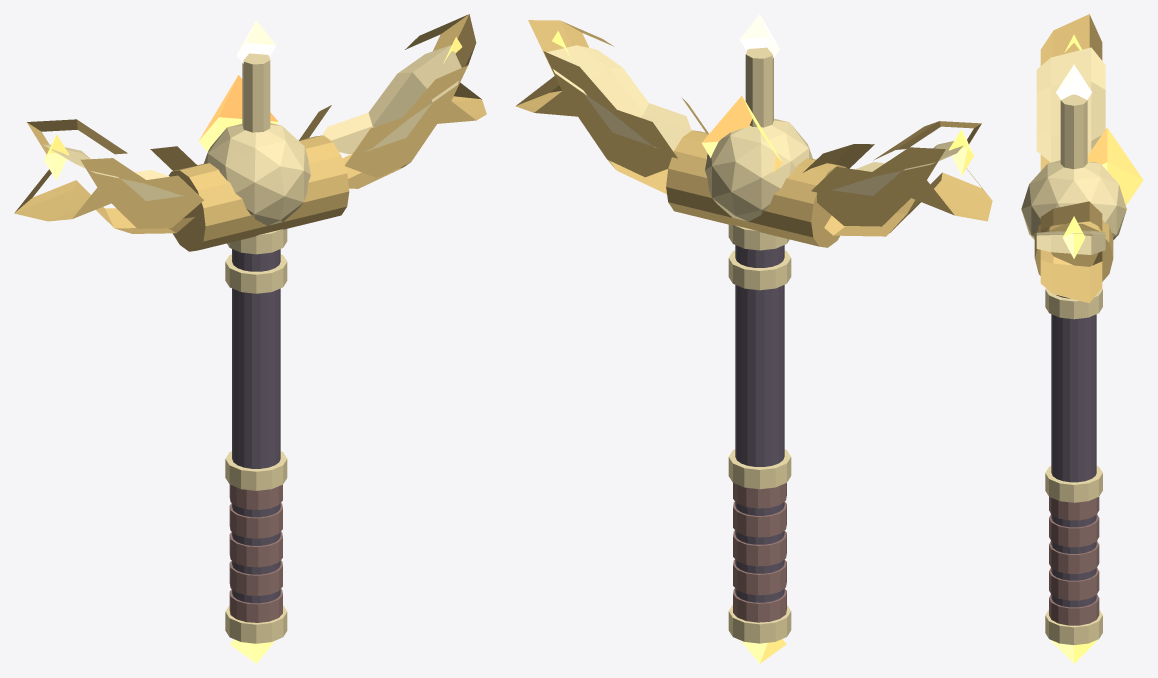
Rendered from pick_legendary_concept_v1.glb.
3 renders of one model, left to right at view 1: azimuth 30°, elevation 25°; view 2: azimuth 150°, elevation 25°; view 3: azimuth 270°, elevation 25°, orthographic. The views are drawn at different scales.
Parts seen in each view (by area): view 1: ForgedHandle_1, RoyalSunblade_left_17, CrossHeadBridge_13, RoyalSunblade_right_16, GemHousing_14, GoldenInnerEdge_right_18, CrownFinial_23, MetalCollar_9, MetalCollar_8, AmberHeart_20, MetalCollar_7, GripWrap_-1.62_3 (+7 smaller); view 2: ForgedHandle_1, RoyalSunblade_left_17, RoyalSunblade_right_16, CrossHeadBridge_13, GemHousing_14, GoldenInnerEdge_right_18, CrownFinial_23, MetalCollar_9, MetalCollar_8, MetalCollar_7, AmberHeart_20, GripWrap_-1.38_4 (+7 smaller); view 3: ForgedHandle_1, GoldenInnerEdge_left_19, GemHousing_14, RoyalSunblade_right_16, CrownFinial_23, RoyalSunblade_left_17, AmberHeart_20, CrossHeadBridge_13, MetalCollar_8, MetalCollar_7, GoldenInnerEdge_right_18, MetalCollar_9 (+8 smaller).
Part boxes in pixels (x1,y1,x2,y2): ForgedHandle_1: [232, 249, 280, 603]; RoyalSunblade_left_17: [14, 119, 203, 233]; CrossHeadBridge_13: [168, 135, 349, 251]; RoyalSunblade_right_16: [299, 14, 486, 188]; GemHousing_14: [204, 123, 310, 225]; GoldenInnerEdge_right_18: [322, 45, 461, 154]; CrownFinial_23: [242, 53, 270, 132]; MetalCollar_9: [225, 254, 287, 293]; MetalCollar_8: [225, 451, 287, 490]; AmberHeart_20: [198, 75, 278, 151]; MetalCollar_7: [225, 605, 287, 643]; GripWrap_-1.62_3: [229, 560, 282, 595]; ForgedHandle_1: [735, 245, 784, 602]; RoyalSunblade_left_17: [803, 121, 992, 236]; RoyalSunblade_right_16: [515, 20, 708, 194]; CrossHeadBridge_13: [666, 130, 846, 247]; GemHousing_14: [705, 118, 812, 221]; GoldenInnerEdge_right_18: [547, 45, 691, 151]; CrownFinial_23: [745, 47, 773, 127]; MetalCollar_9: [728, 250, 791, 290]; MetalCollar_8: [728, 449, 791, 489]; MetalCollar_7: [728, 605, 791, 643]; AmberHeart_20: [702, 96, 782, 173]; GripWrap_-1.38_4: [733, 530, 786, 566]; ForgedHandle_1: [1051, 295, 1096, 607]; GoldenInnerEdge_left_19: [1036, 47, 1105, 162]; GemHousing_14: [1021, 160, 1126, 239]; RoyalSunblade_right_16: [1040, 201, 1102, 303]; CrownFinial_23: [1060, 94, 1087, 169]; RoyalSunblade_left_17: [1040, 14, 1102, 170]; AmberHeart_20: [1087, 127, 1143, 205]; CrossHeadBridge_13: [1034, 220, 1113, 281]; MetalCollar_8: [1045, 466, 1102, 502]; MetalCollar_7: [1045, 610, 1102, 645]; GoldenInnerEdge_right_18: [1036, 230, 1105, 254]; MetalCollar_9: [1045, 288, 1102, 319].
Bounding box in the file's own units: 4.1 × 5.39 × 0.997.
